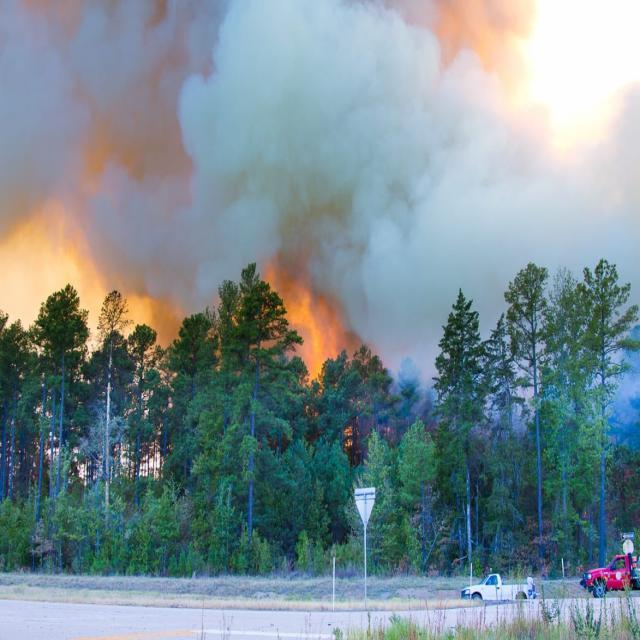Fire: (0, 201, 379, 406)
Smoke: (382, 5, 640, 362), (0, 0, 382, 185)
